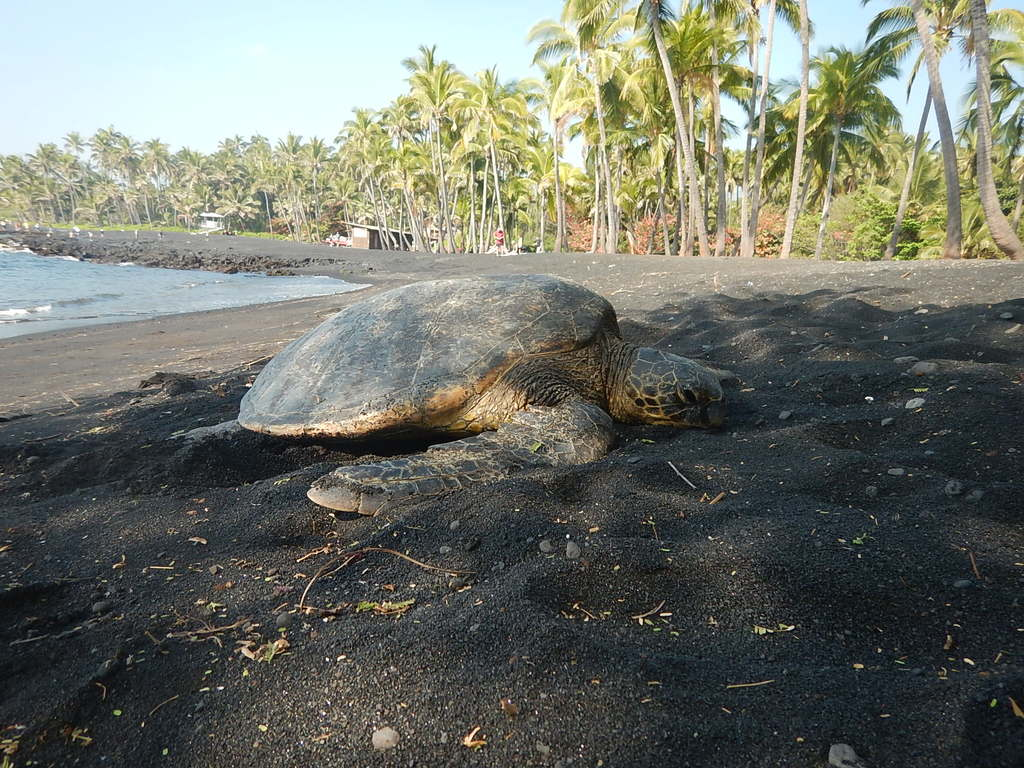Sea turtles: (179, 271, 743, 521)
